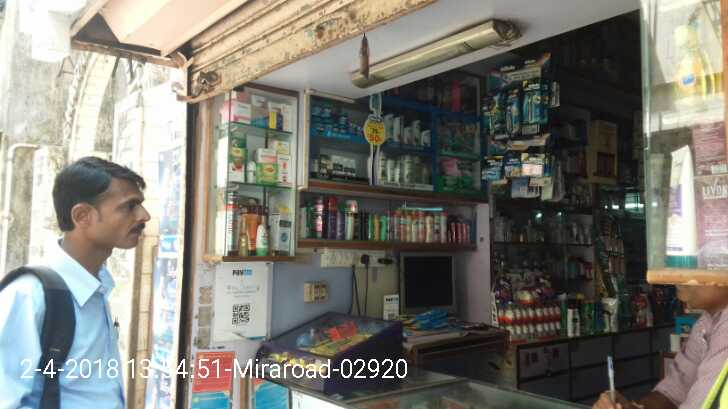vicks: (311, 97, 372, 139)
